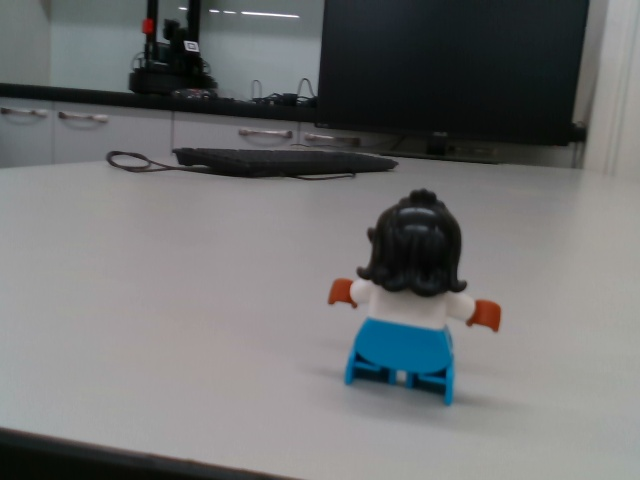people: (326, 188, 505, 407)
